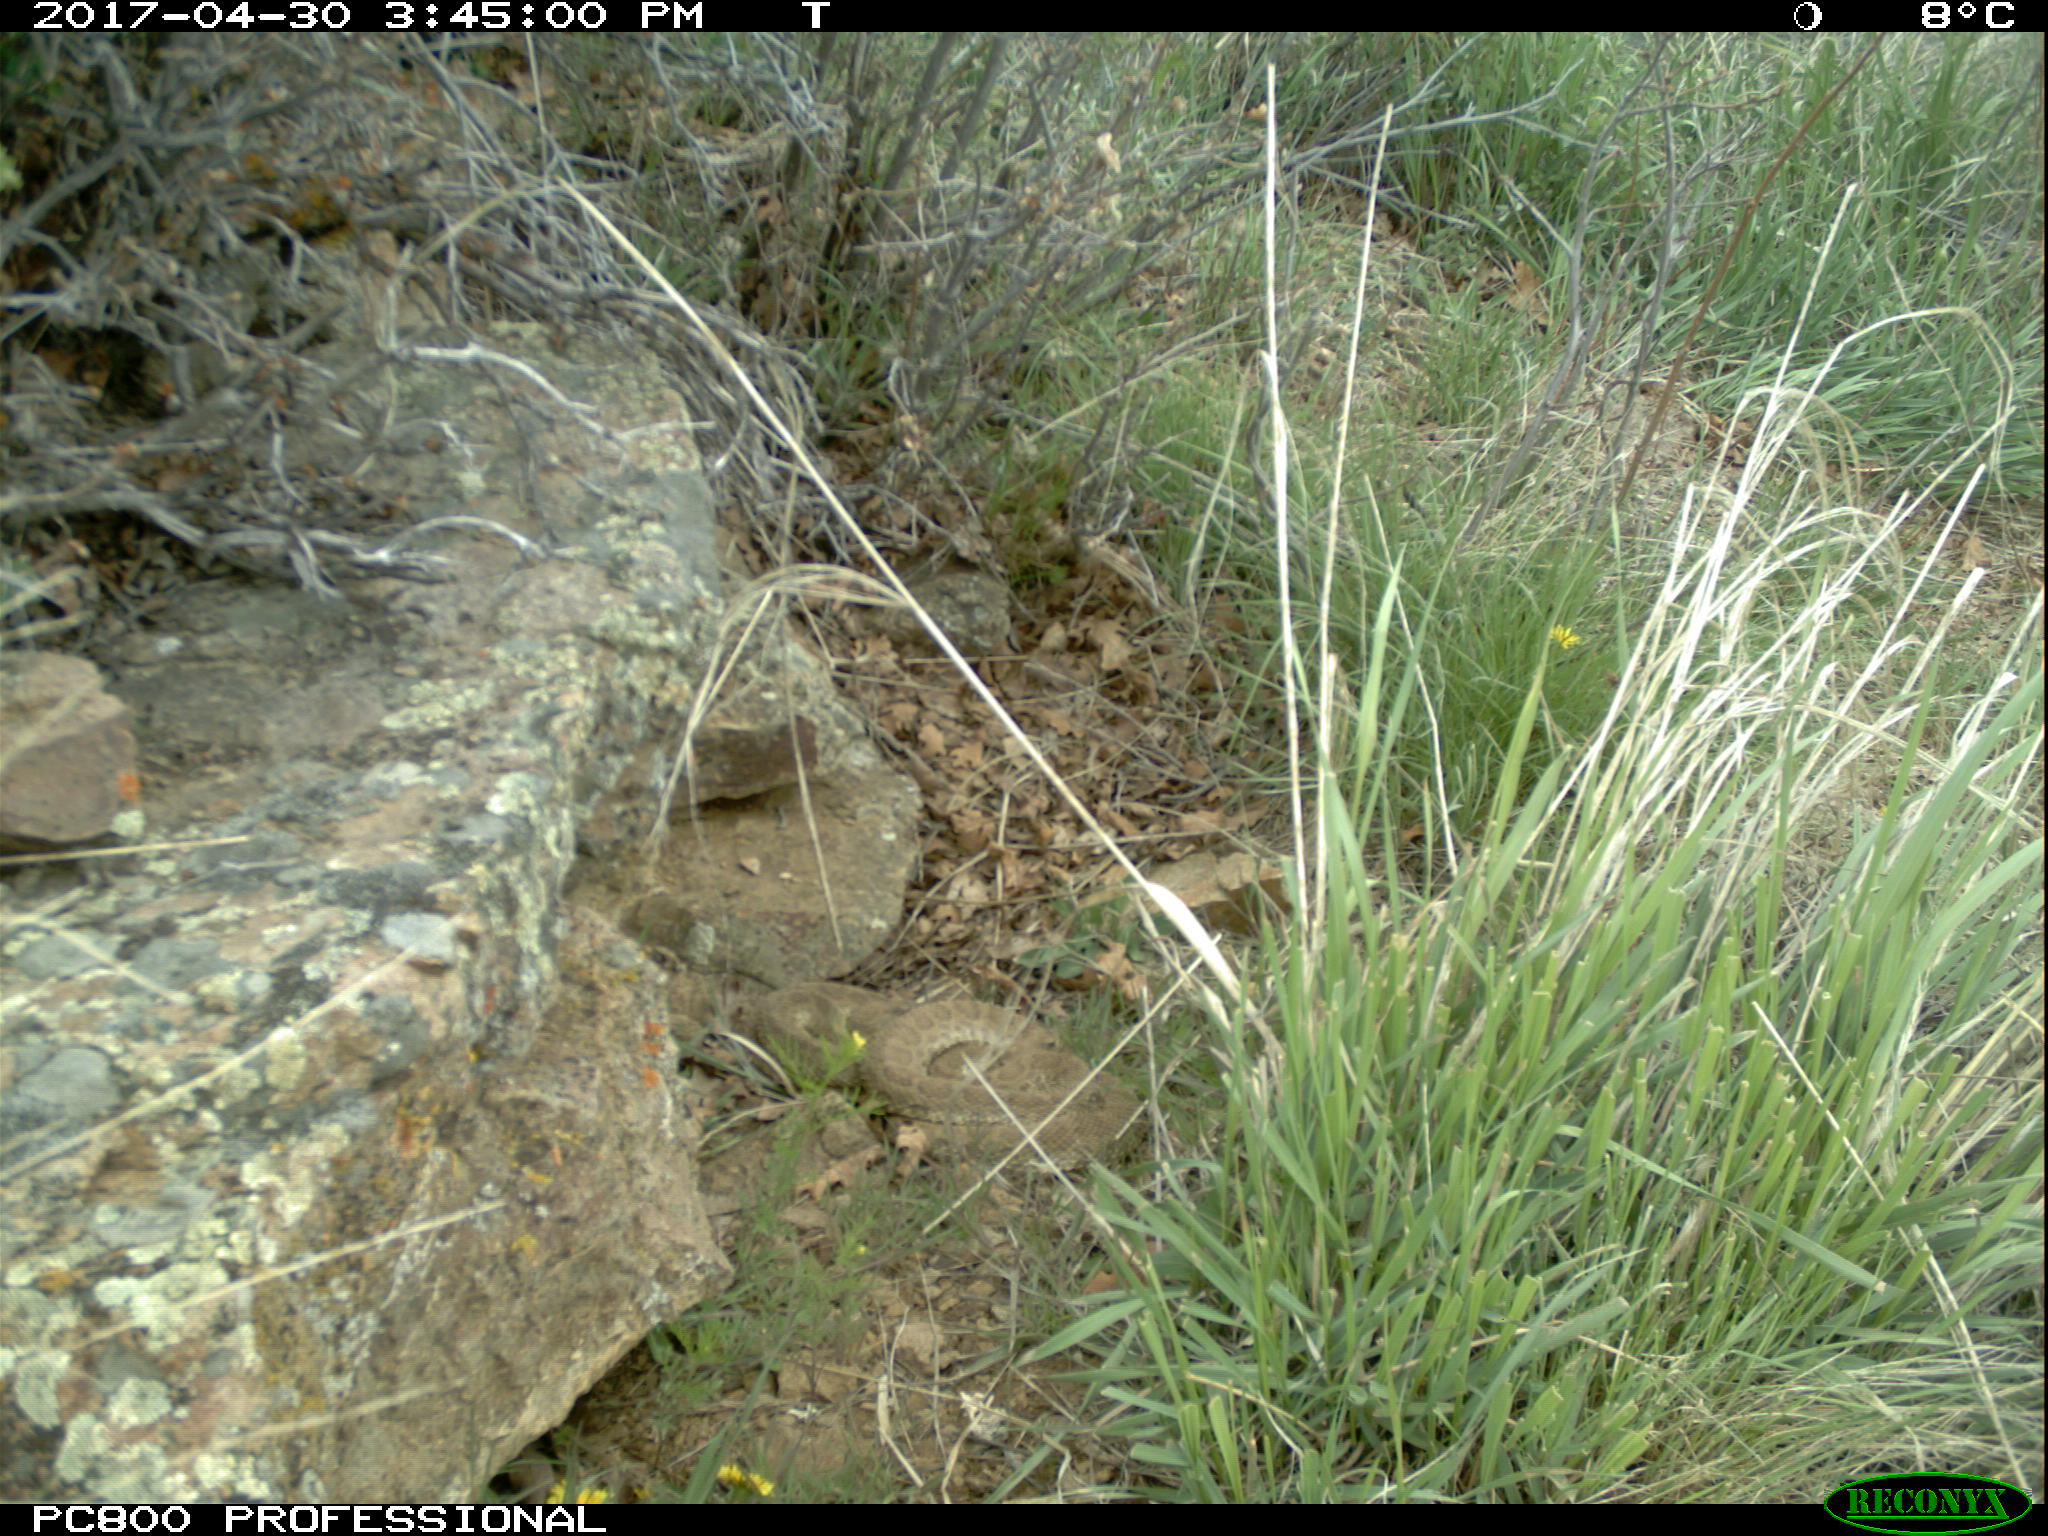snake: (742, 983, 1171, 1176)
